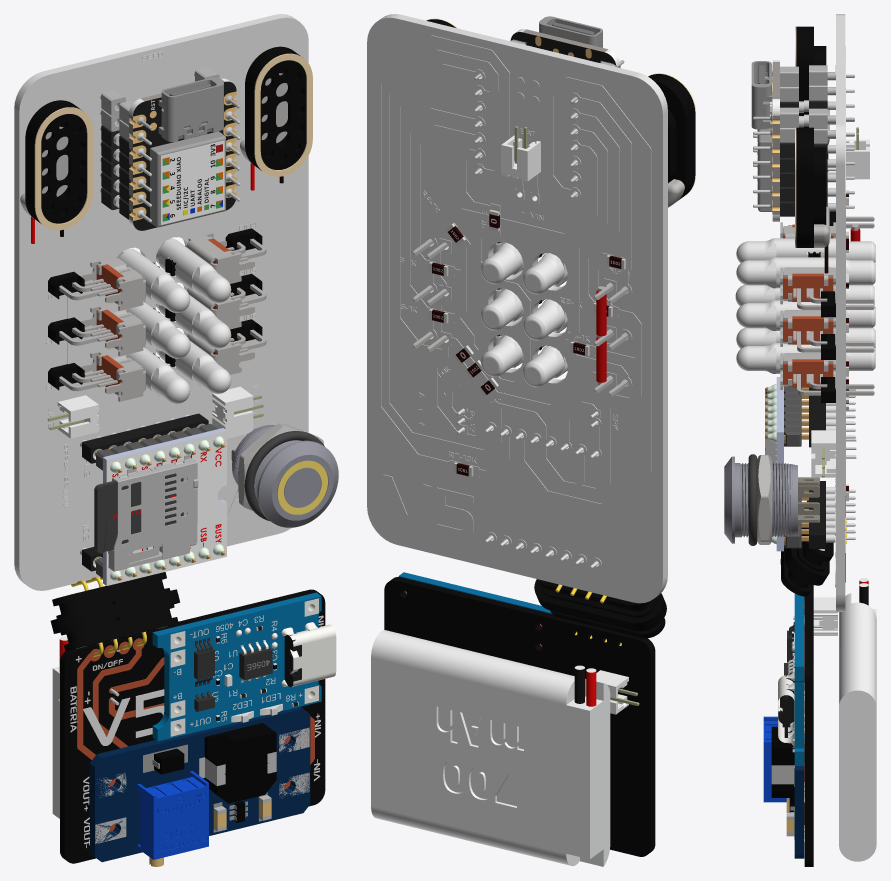
Rendered from interior.glb.
3 views of the same model, side by side, from view 1: azimuth 30°, elevation 25°; view 2: azimuth 150°, elevation 25°; view 3: azimuth 270°, elevation 25° (orthographic). The views are drawn at different scales.
Parts seen in each view (by area): view 1: Solid237, PCB_FA_Batería_V6_Placa, Solid1_63, Solid1_95, Solid2_4, Solid1_88, Solid4_12, Solid4_13, Solid1_68, Solid2_38, Solid11_3, Solid2_40 (+43 smaller); view 2: Solid237, Solid1_58, PCB_FA_Batería_V6_Placa, Solid226, Solid2_33, Solid213, Solid214, Solid3_14, Solid4_13, Solid224, Solid218, Solid225 (+21 smaller); view 3: Solid1_58, Solid237, Solid1_88, Solid4_12, PCB_FA_Batería_V6_Placa, Solid3_9, Solid3_5, Solid3_10, Solid3_8, Solid1_95, Solid4_13, Solid1_56 (+43 smaller).
Boxes of the visible parts, <box> form: Solid237: <box>14,14,308,590</box>; PCB_FA_Batería_V6_Placa: <box>60,589,325,863</box>; Solid1_63: <box>89,706,310,862</box>; Solid1_95: <box>152,592,321,741</box>; Solid2_4: <box>108,455,198,571</box>; Solid1_88: <box>232,425,338,527</box>; Solid4_12: <box>245,46,306,170</box>; Solid4_13: <box>25,100,86,223</box>; Solid1_68: <box>106,431,226,585</box>; Solid2_38: <box>137,775,208,859</box>; Solid11_3: <box>204,723,276,803</box>; Solid2_40: <box>160,140,224,224</box>; Solid237: <box>367,14,667,603</box>; Solid1_58: <box>371,630,610,866</box>; PCB_FA_Batería_V6_Placa: <box>384,577,655,856</box>; Solid226: <box>384,49,641,494</box>; Solid2_33: <box>566,696,603,859</box>; Solid213: <box>516,77,651,510</box>; Solid214: <box>375,35,509,470</box>; Solid3_14: <box>534,579,665,627</box>; Solid4_13: <box>648,74,695,200</box>; Solid224: <box>566,124,632,390</box>; Solid218: <box>404,108,485,342</box>; Solid225: <box>570,108,632,351</box>; Solid1_58: <box>839,593,876,861</box>; Solid237: <box>836,14,845,611</box>; Solid1_88: <box>724,456,797,543</box>; Solid4_12: <box>796,127,826,247</box>; PCB_FA_Batería_V6_Placa: <box>804,584,813,866</box>; Solid3_9: <box>736,257,875,288</box>; Solid3_5: <box>736,238,875,263</box>; Solid3_10: <box>736,343,875,373</box>; Solid3_8: <box>736,300,875,330</box>; Solid1_95: <box>794,593,804,765</box>; Solid4_13: <box>796,26,826,127</box>; Solid1_56: <box>757,455,771,544</box>.
Bounding box in the file's own units: 0.051 × 0.129 × 0.0242.
